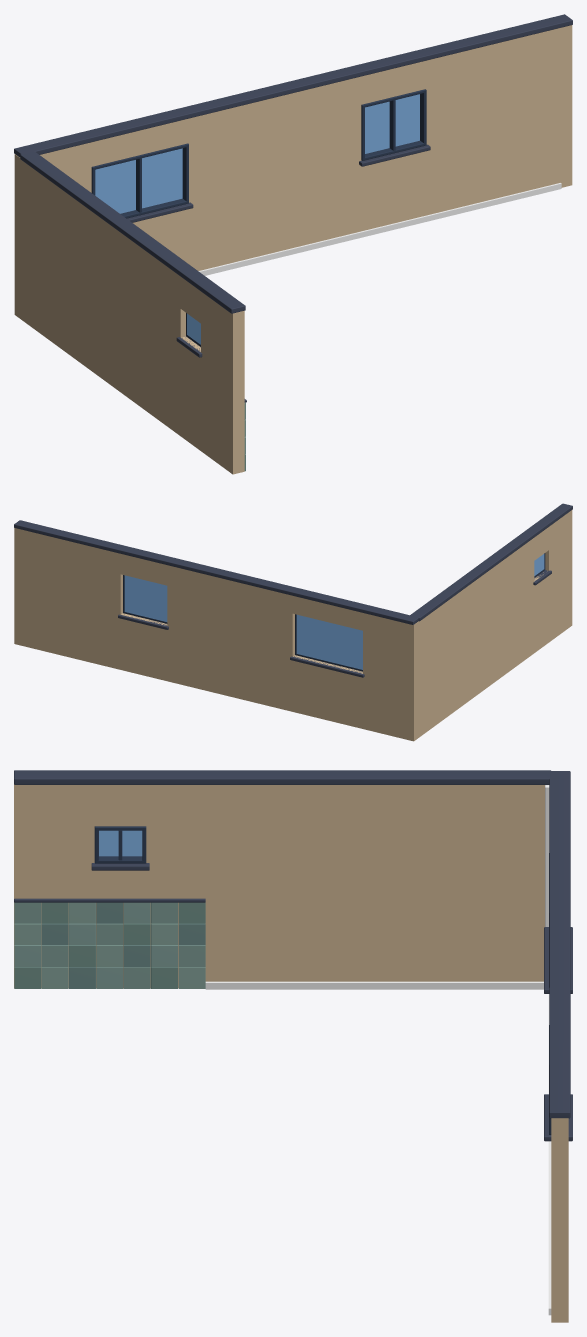
File: rear-walls.glb
The picture shows the model from 3 angles, top to bottom: view 1: azimuth 30°, elevation 25°; view 2: azimuth 150°, elevation 25°; view 3: azimuth 270°, elevation 25°; orthographic projection. The views are drawn at different scales.
Parts seen in each view (by area): view 1: rear_walls_pivot_Mesh; view 2: rear_walls_pivot_Mesh; view 3: rear_walls_pivot_Mesh.
Part boxes in pixels (x1,y1,x2,y2): rear_walls_pivot_Mesh: (14,14,572,474); rear_walls_pivot_Mesh: (14,503,572,741); rear_walls_pivot_Mesh: (14,770,572,1322).
Size of the model in its own units: 9.45 by 2.7 by 6.5.
